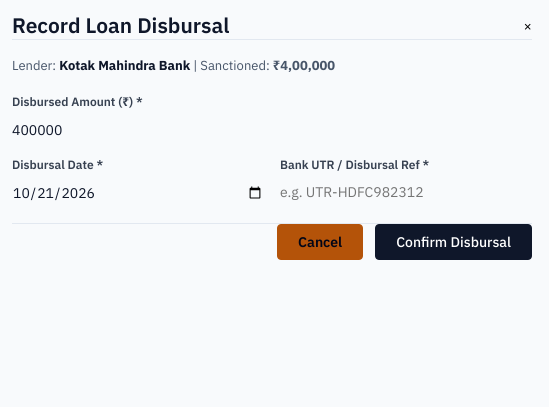
Test: DisbursalModal BR-08 Override Handling › shows BR-08 override reason field when disbursal exceeds sanction amount
The image size is (549, 407).
Expected: the text "BR-08" is not shown
Step 1. Replace the text in the number field labelled "Disbursed Amount (₹) *" with "450000" → (272, 130), box [12,121,532,139]
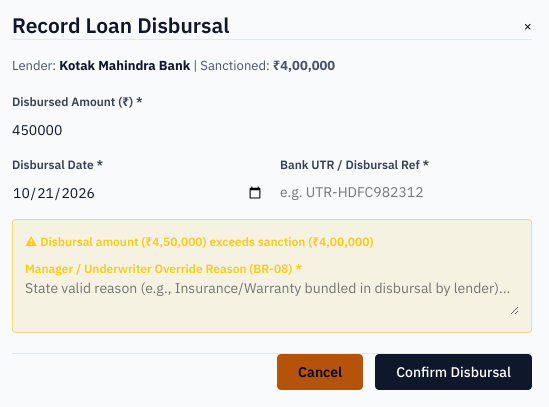
Now the text "⚠ Disbursal amount (₹4,50,000) exceeds sanction (₹4,00,000)" is shown, box [25,234,374,250]
Now the text "Manager / Underwriter Override Reason (BR-08) *" is shown, box [25,262,302,276]
